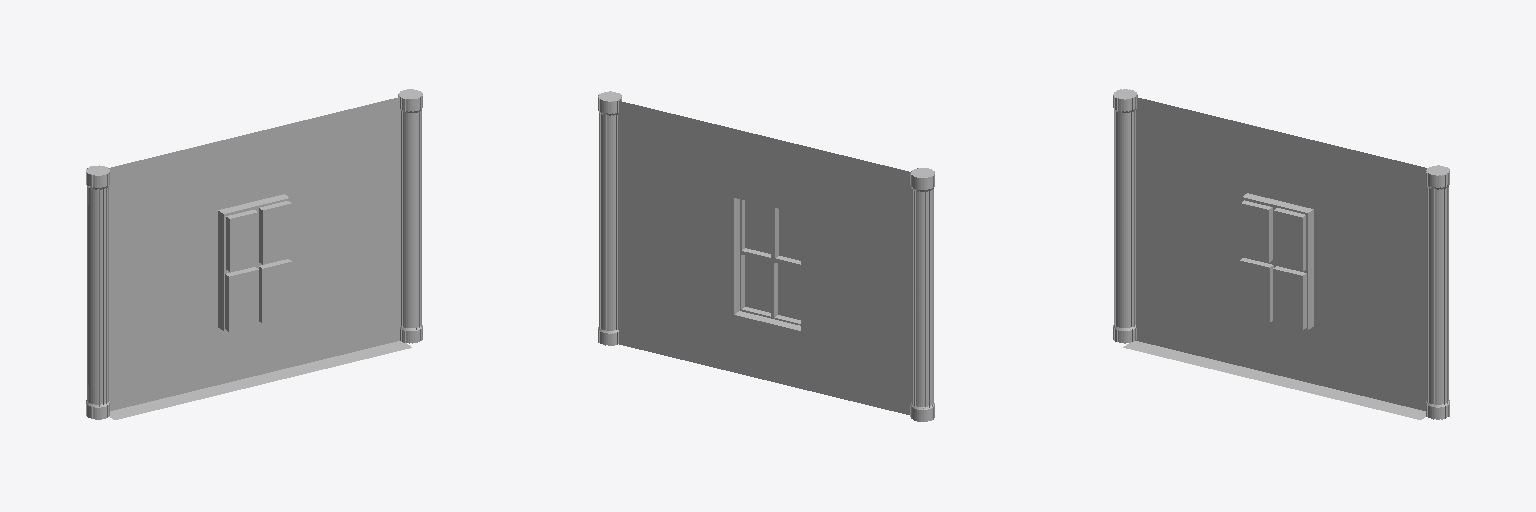
Rendered from WallSegment.obj.
The picture shows the model from 3 angles: view 1: azimuth 30°, elevation 25°; view 2: azimuth 150°, elevation 25°; view 3: azimuth 330°, elevation 25°; orthographic projection.
Parts seen in each view (by area): view 1: Wall; view 2: Wall; view 3: Wall.
Boxes of the visible parts, x1=… form: Wall: x1=86, y1=89, x2=422, y2=419; Wall: x1=598, y1=91, x2=934, y2=421; Wall: x1=1113, y1=89, x2=1449, y2=419.
Bounding box in the file's own units: 37.34 × 26.13 × 3.01.